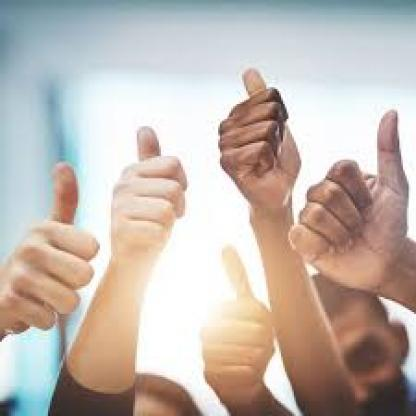thumb_up: (290, 107, 416, 288), (0, 157, 104, 336), (196, 242, 281, 393), (105, 120, 191, 262), (214, 66, 300, 208)
